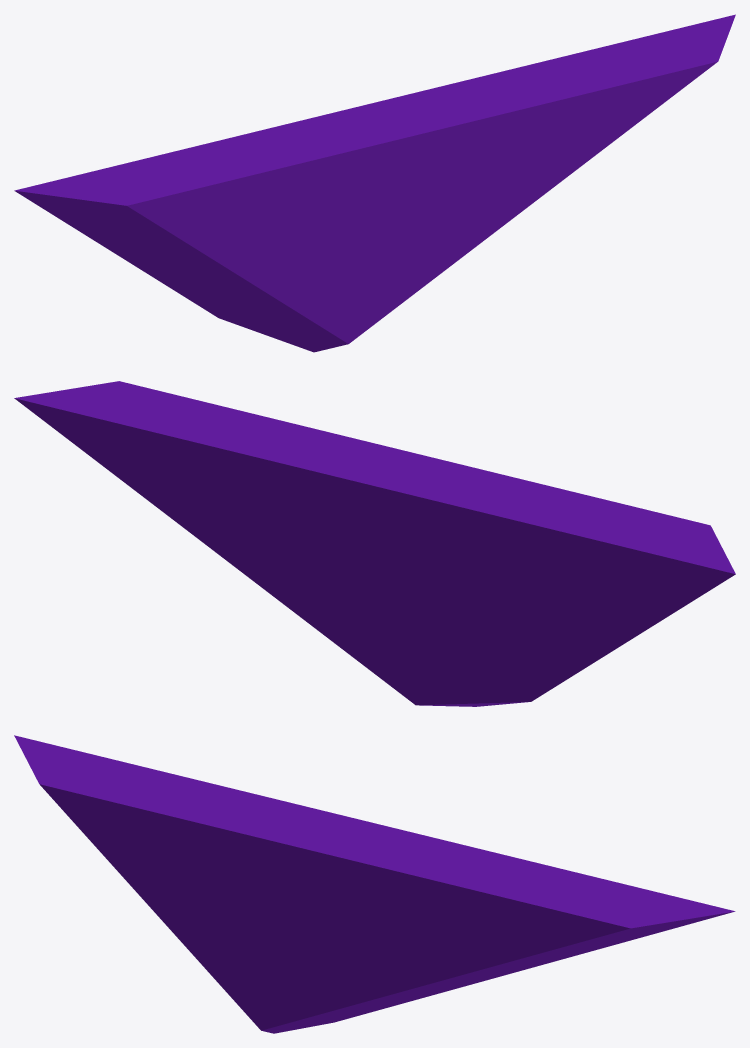
The model's file is Band_9_12_chunks.fbx.
The picture shows the model from 3 angles, top to bottom: view 1: azimuth 30°, elevation 25°; view 2: azimuth 150°, elevation 25°; view 3: azimuth 330°, elevation 25°; orthographic projection.
Visible parts, largest first — view 1: Band_9_12_0; view 2: Band_9_12_0; view 3: Band_9_12_0.
Boxes of the visible parts, x1=… form: Band_9_12_0: x1=14, y1=14, x2=735, y2=352; Band_9_12_0: x1=14, y1=381, x2=735, y2=706; Band_9_12_0: x1=14, y1=735, x2=735, y2=1033.
Bounding box in the file's own units: 81.31 × 23.2 × 8.55.
